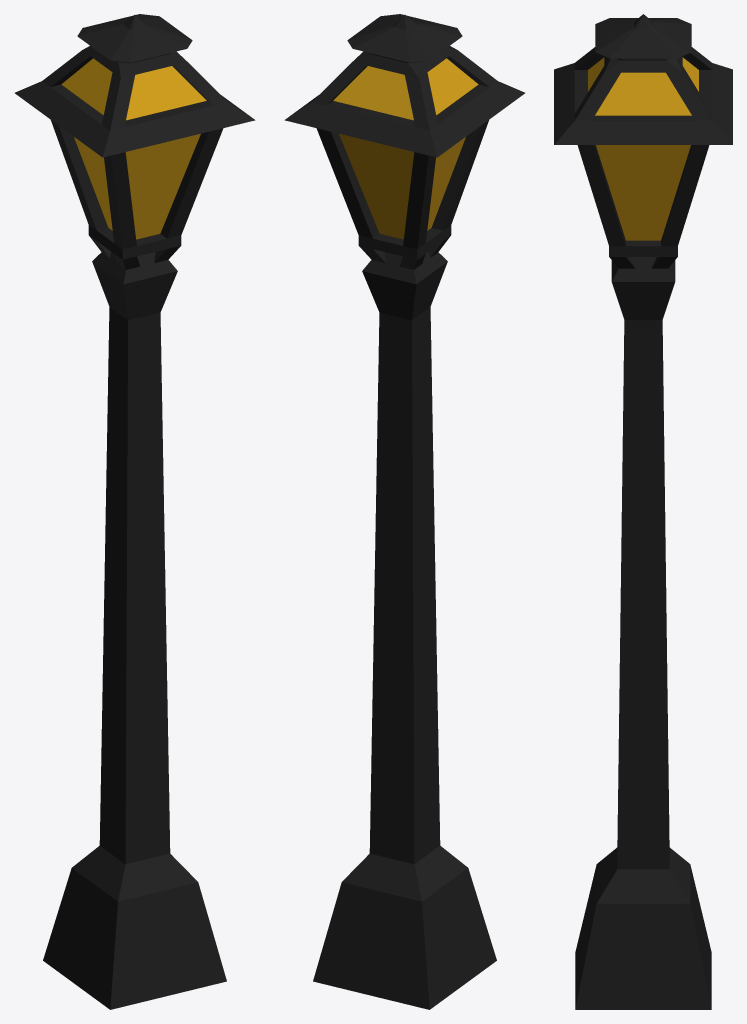
Rendered from Lamp base.fbx.
3 views of the same model, side by side, from view 1: azimuth 30°, elevation 25°; view 2: azimuth 150°, elevation 25°; view 3: azimuth 270°, elevation 25° (orthographic).
Visible parts, largest first — view 1: Cube.005, Cube.003; view 2: Cube.005, Cube.003; view 3: Cube.005, Cube.003.
Boxes of the visible parts, bbox=[...] form: Cube.005: bbox=[15, 14, 255, 1009]; Cube.003: bbox=[61, 58, 206, 239]; Cube.005: bbox=[284, 14, 524, 1009]; Cube.003: bbox=[333, 58, 478, 239]; Cube.005: bbox=[554, 14, 732, 1009]; Cube.003: bbox=[588, 57, 698, 240].
Bounding box in the file's own units: 0.9039 × 5.4 × 0.9039.
